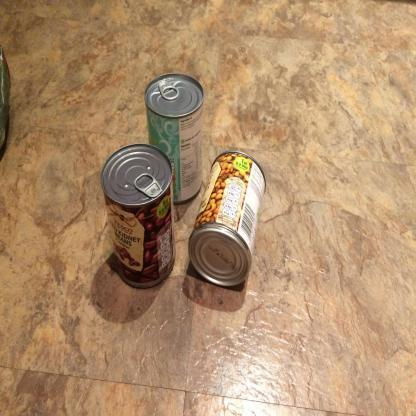metal: (100, 143, 176, 288), (188, 150, 266, 288), (142, 72, 205, 205)
